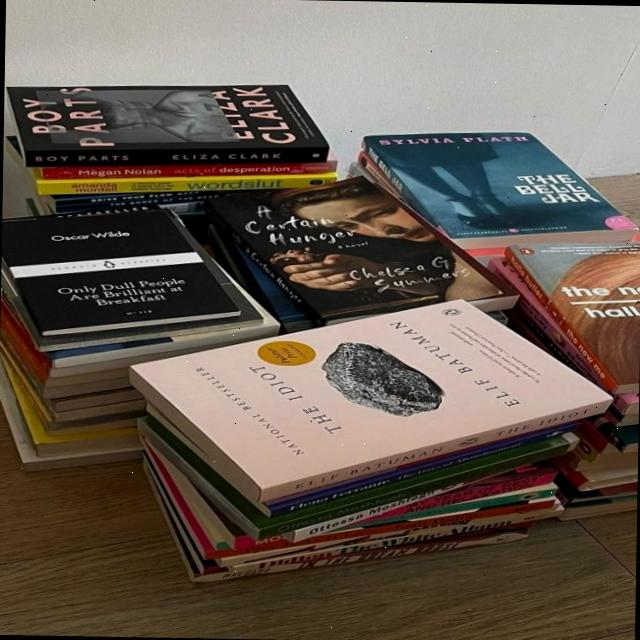book: (130, 299, 610, 509), (6, 82, 327, 167)
